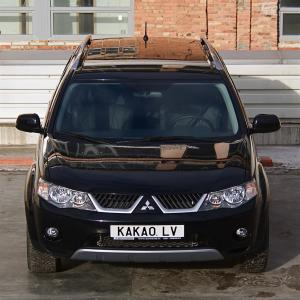Vehicle-registration-plate: (111, 226, 185, 239)
